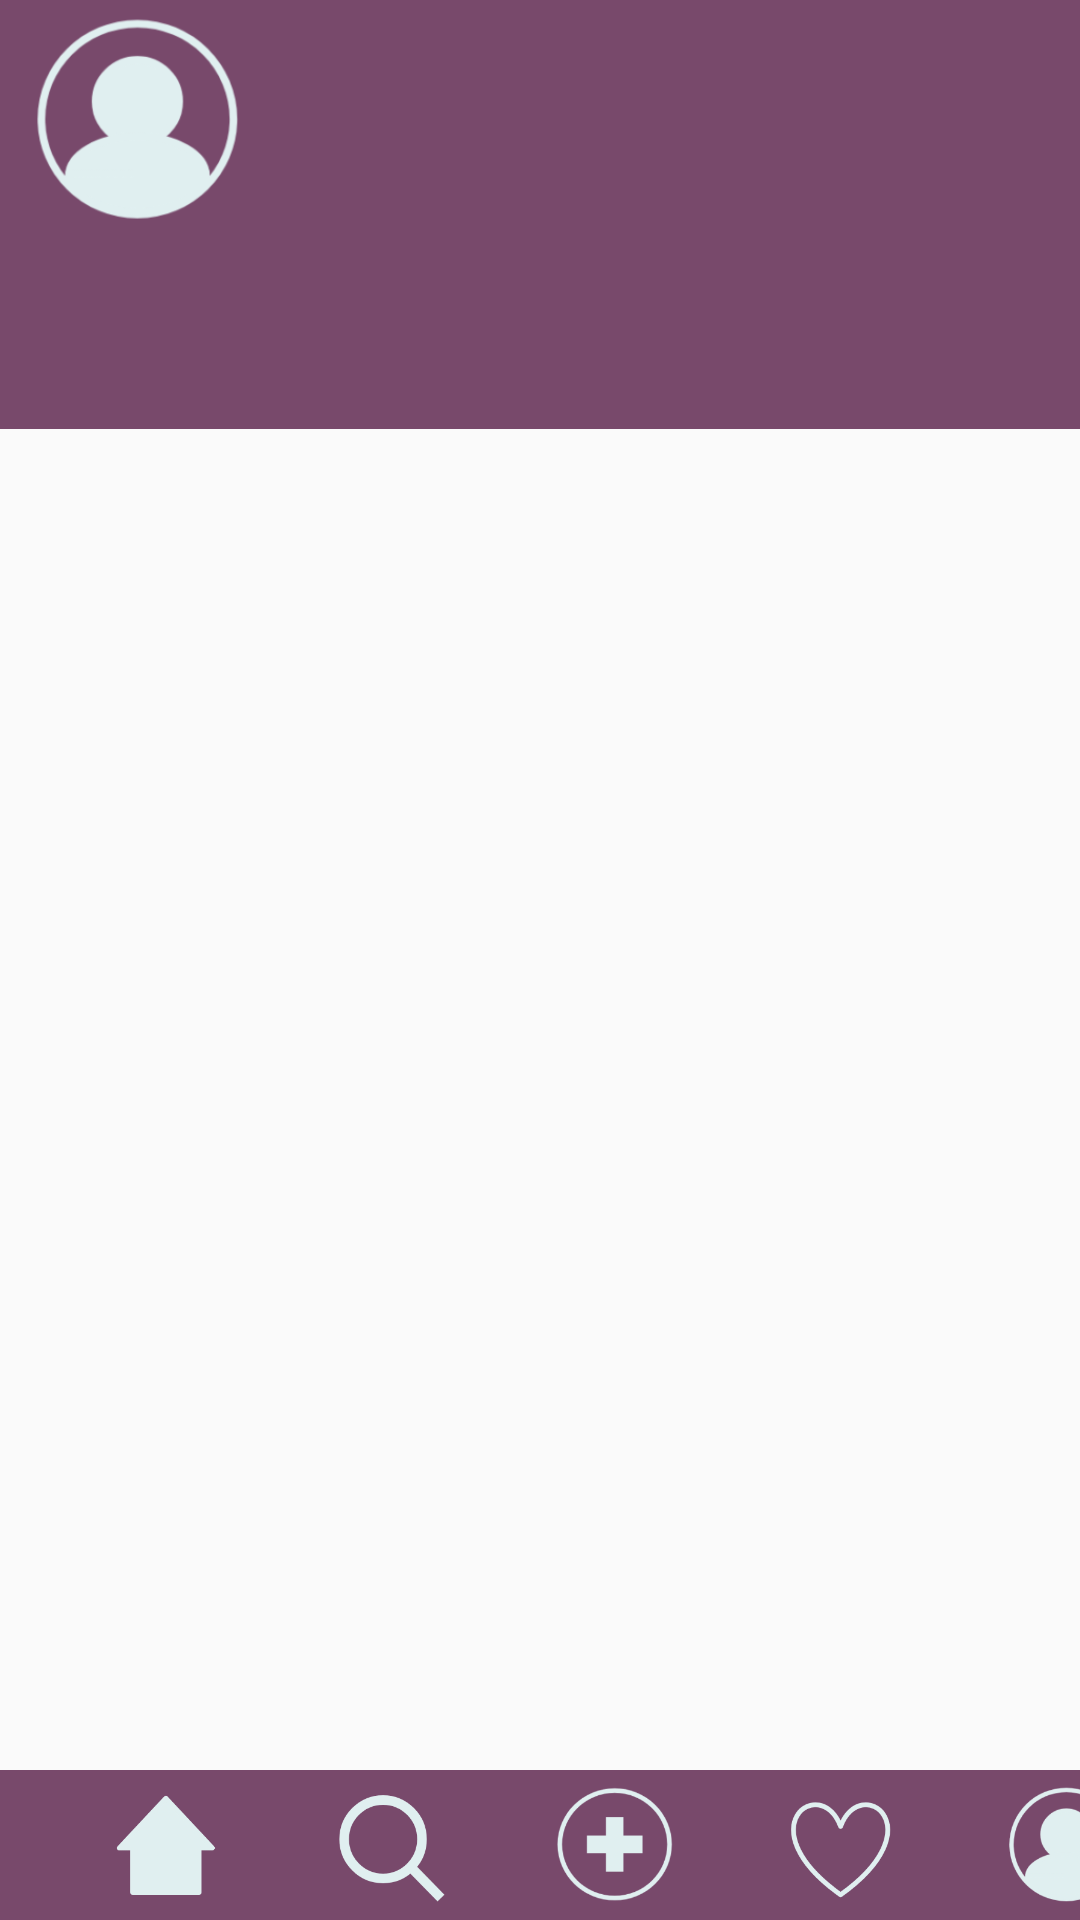

Screen size 1080×1920. Icon name, then its box in pixels as (x1, y1, x2, y2):
add: (557, 1788, 672, 1901)
home: (117, 1796, 215, 1895)
search: (339, 1795, 445, 1902)
